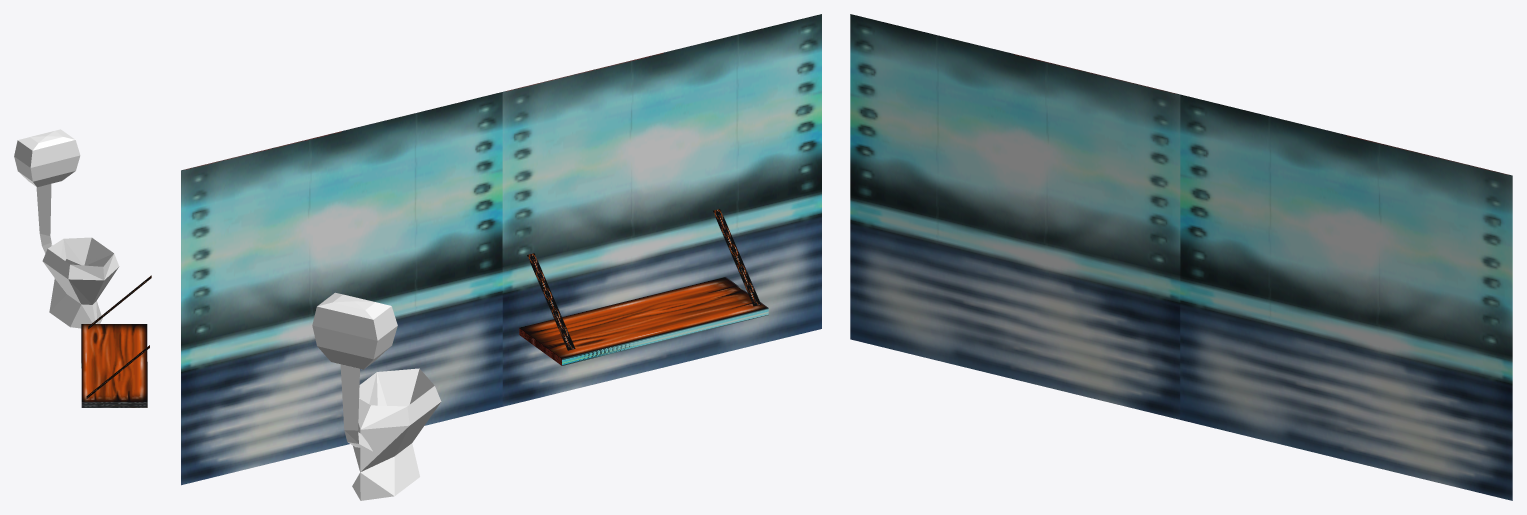
Rendered from Polizei_Wand_K09_2558.glb.
3 renders of one model, left to right at view 1: azimuth 30°, elevation 25°; view 2: azimuth 150°, elevation 25°; view 3: azimuth 270°, elevation 25°, orthographic. The views are drawn at different scales.
Parts seen in each view (by area): view 1: pCubeShape18, pSphereShape79, pSphereShape80, pCylinderShape158, pPlaneShape355, pPlaneShape354; view 2: pPlaneShape356, pCubeShape18, pSphereShape79, pSphereShape80, pCylinderShape158, pPlaneShape354, pPlaneShape355; view 3: pPlaneShape356.
Boxes of the visible parts, box(x1,y1,x2,y2) form: pCubeShape18: box(81, 324, 147, 407); pSphereShape79: box(42, 237, 119, 328); pSphereShape80: box(14, 129, 80, 187); pCylinderShape158: box(36, 183, 52, 253); pPlaneShape355: box(86, 345, 149, 398); pPlaneShape354: box(88, 275, 151, 328); pPlaneShape356: box(181, 14, 821, 485); pCubeShape18: box(519, 277, 768, 365); pSphereShape79: box(352, 368, 441, 500); pSphereShape80: box(312, 292, 397, 369); pCylinderShape158: box(340, 364, 372, 451); pPlaneShape354: box(527, 253, 575, 350); pPlaneShape355: box(713, 209, 760, 306); pPlaneShape356: box(850, 14, 1512, 500).
Size of the model in its own units: 0.4391 by 0.3891 by 0.7177.
7 materials, 4 textured.
